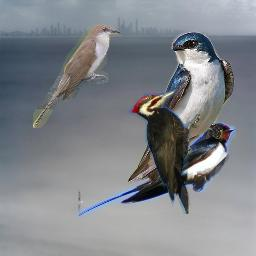Cuckoo: (33, 24, 122, 128)
Swallow: (127, 30, 235, 184), (76, 122, 236, 217)
Woodpecker: (127, 89, 200, 214)
